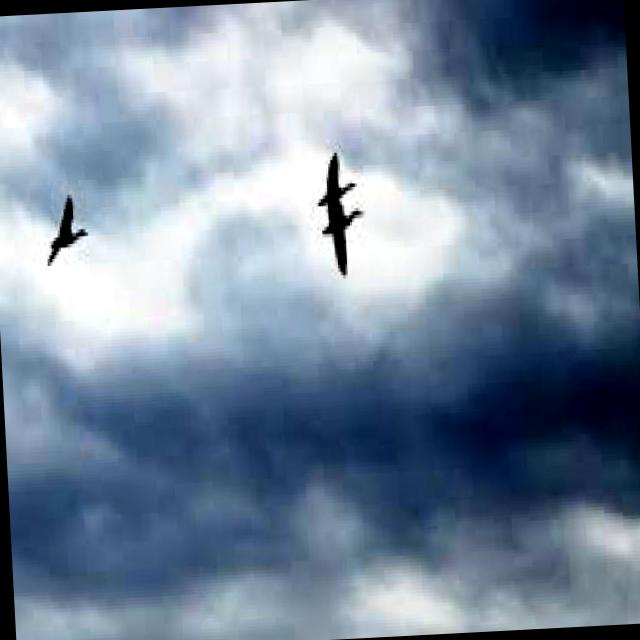bird: (295, 111, 374, 289), (19, 158, 102, 282)
